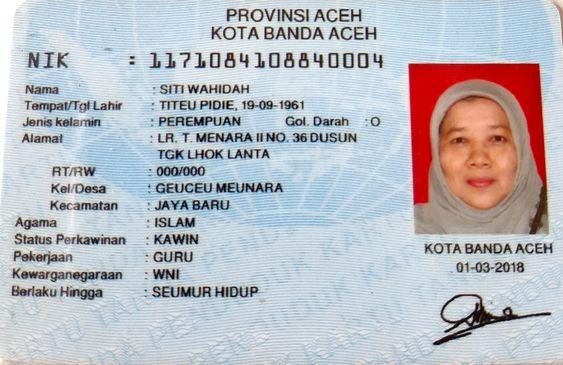ID-card: (3, 4, 562, 359)
